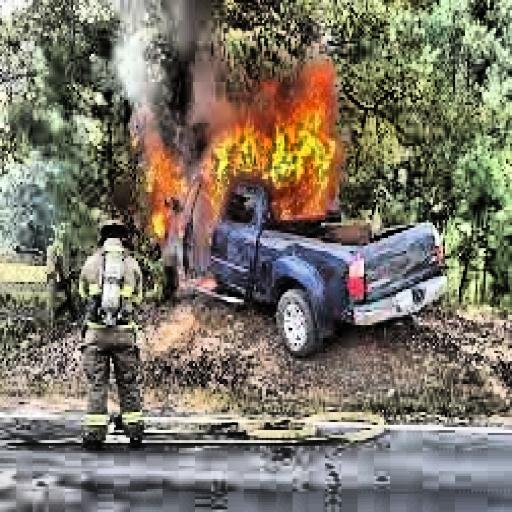fire: (140, 49, 346, 233)
